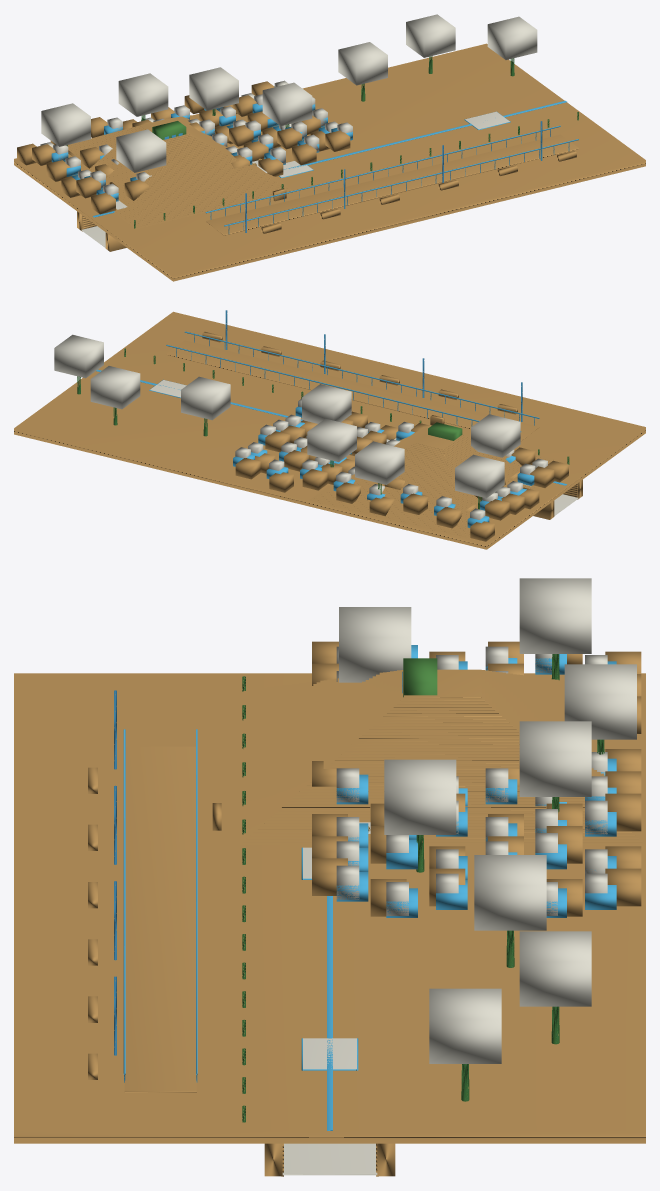
3 renders of one model, top to bottom at view 1: azimuth 30°, elevation 25°; view 2: azimuth 150°, elevation 25°; view 3: azimuth 270°, elevation 25°, orthographic. The views are drawn at different scales.
Parts seen in each view (by area): view 1: baegundong_granite_and_inscription, baegundong_pine_trees, baegundong_promenade_deck, baegundong_clear_stream; view 2: baegundong_granite_and_inscription, baegundong_pine_trees, baegundong_promenade_deck, baegundong_clear_stream; view 3: baegundong_granite_and_inscription, baegundong_pine_trees, baegundong_promenade_deck, baegundong_clear_stream.
Boxes of the visible parts, bbox=[...] form: baegundong_granite_and_inscription: bbox=[14, 43, 645, 281]; baegundong_pine_trees: bbox=[40, 14, 537, 201]; baegundong_promenade_deck: bbox=[93, 100, 578, 235]; baegundong_clear_stream: bbox=[81, 111, 510, 247]; baegundong_granite_and_inscription: bbox=[14, 311, 645, 549]; baegundong_pine_trees: bbox=[54, 334, 547, 527]; baegundong_promenade_deck: bbox=[96, 310, 569, 485]; baegundong_clear_stream: bbox=[149, 379, 578, 515]; baegundong_granite_and_inscription: bbox=[14, 641, 645, 1176]; baegundong_pine_trees: bbox=[336, 578, 636, 1101]; baegundong_promenade_deck: bbox=[88, 676, 332, 1130]; baegundong_clear_stream: bbox=[282, 822, 377, 1175].
Size of the model in its own units: 48 by 7.54 by 28.
4 materials, 4 textured.
